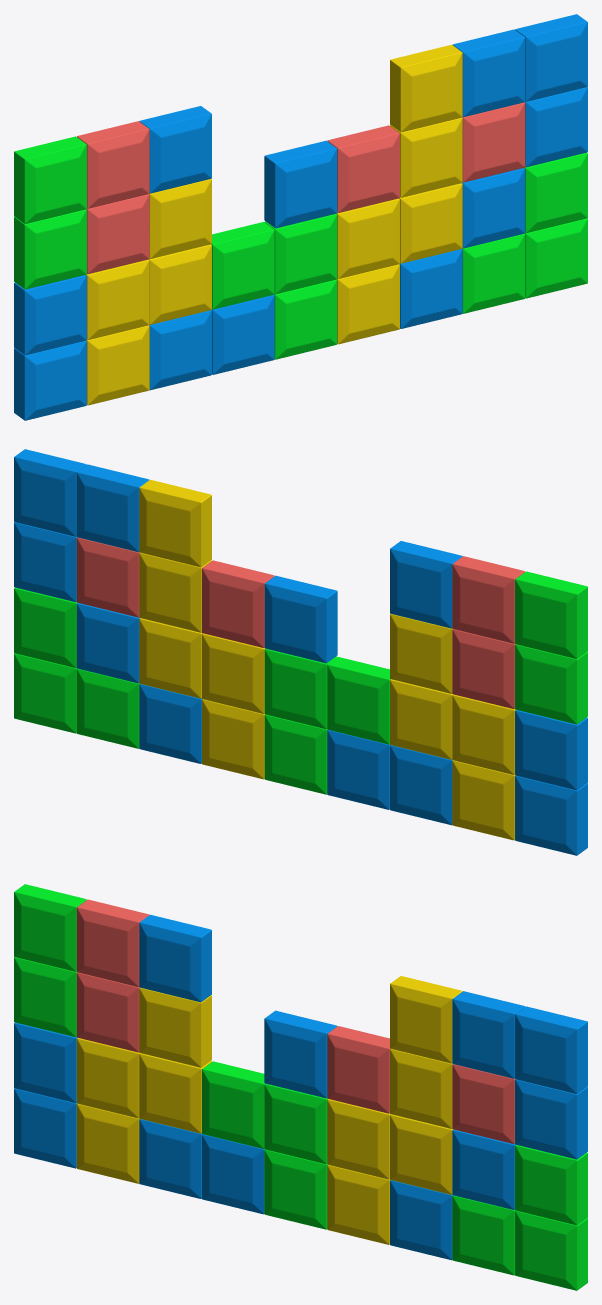
3 renders of one model, top to bottom at view 1: azimuth 30°, elevation 25°; view 2: azimuth 150°, elevation 25°; view 3: azimuth 330°, elevation 25°, orthographic.
Visible parts, largest first — view 1: Cube.018, Cube.029, Cube.032, Cube.030, Cube.014, Cube.005, Cube.023, Cube.033, Cube.019, Cube.031, Cube.034, Cube.017 (+20 smaller); view 2: Cube.018, Cube.029, Cube.032, Cube.030, Cube.014, Cube.005, Cube.023, Cube.033, Cube.019, Cube.031, Cube.034, Cube.017 (+20 smaller); view 3: Cube.034, Cube.031, Cube.018, Cube.033, Cube.013, Cube.004, Cube.022, Cube.025, Cube.030, Cube.032, Cube.029, Cube.019 (+20 smaller).
Boxes of the visible parts, x1,y1,x2,y2 form: Cube.018: (264, 140, 337, 228); Cube.029: (390, 44, 462, 132); Cube.032: (14, 136, 86, 223); Cube.030: (452, 29, 525, 117); Cube.014: (14, 275, 86, 355); Cube.005: (14, 340, 86, 420); Cube.023: (14, 209, 86, 289); Cube.033: (77, 121, 149, 208); Cube.019: (327, 125, 399, 212); Cube.031: (515, 14, 587, 101); Cube.034: (139, 106, 211, 193); Cube.017: (211, 222, 274, 309); Cube.018: (264, 575, 337, 663); Cube.029: (139, 479, 211, 567); Cube.032: (515, 571, 587, 658); Cube.030: (76, 464, 149, 552); Cube.014: (515, 710, 587, 790); Cube.005: (515, 775, 587, 855); Cube.023: (515, 644, 587, 724); Cube.033: (452, 556, 524, 643); Cube.019: (202, 560, 274, 647); Cube.031: (14, 449, 86, 536); Cube.034: (390, 541, 462, 628); Cube.017: (327, 657, 390, 744); Cube.034: (139, 914, 211, 1002); Cube.031: (515, 1006, 587, 1093); Cube.018: (264, 1010, 337, 1098); Cube.033: (76, 899, 149, 987); Cube.013: (515, 1145, 587, 1225); Cube.004: (515, 1210, 587, 1290); Cube.022: (515, 1079, 587, 1159); Cube.025: (139, 987, 211, 1067); Cube.030: (452, 991, 525, 1078); Cube.032: (14, 884, 86, 971); Cube.029: (390, 976, 462, 1063); Cube.019: (327, 1026, 390, 1113).
Size of the model in its own units: 1.8 by 0.7985 by 0.0799.
